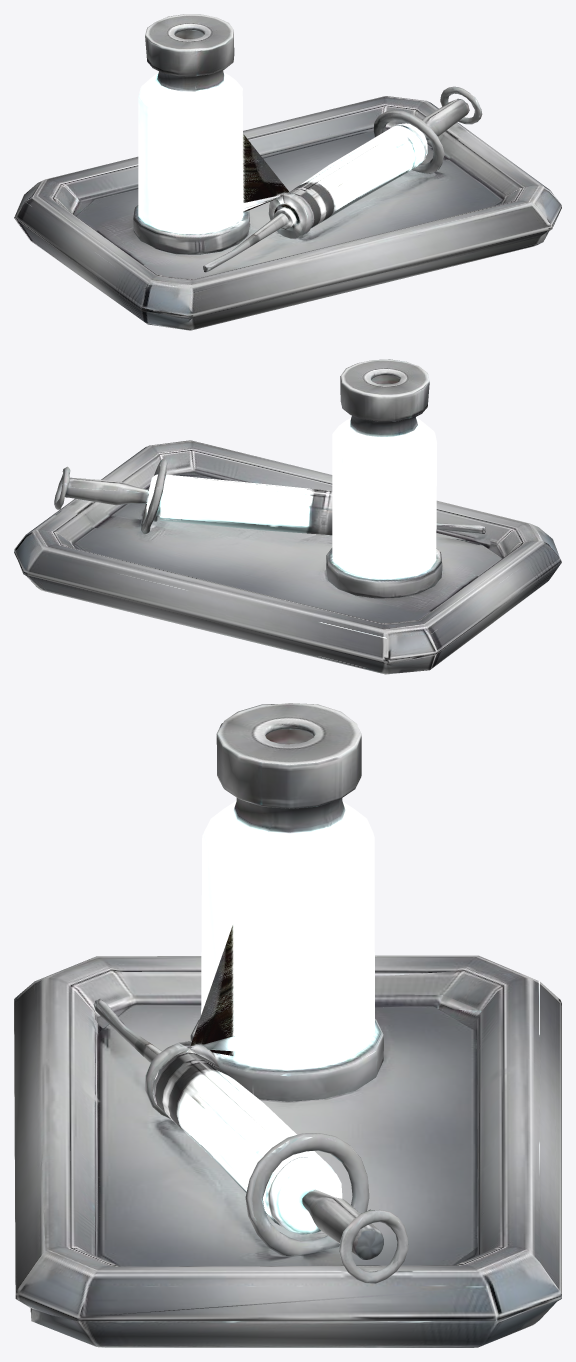
File: contrast_agent.glb
3 renders of one model, top to bottom at view 1: azimuth 30°, elevation 25°; view 2: azimuth 150°, elevation 25°; view 3: azimuth 270°, elevation 25°, orthographic. The views are drawn at different scales.
Size of the model in its own units: 1 by 0.5195 by 0.6797.
1 material, 1 textured.
